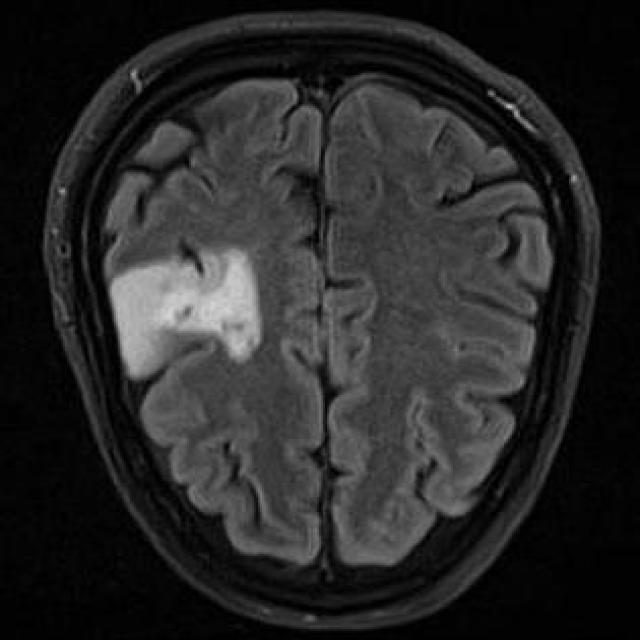brain tumor: (110, 249, 264, 380)
